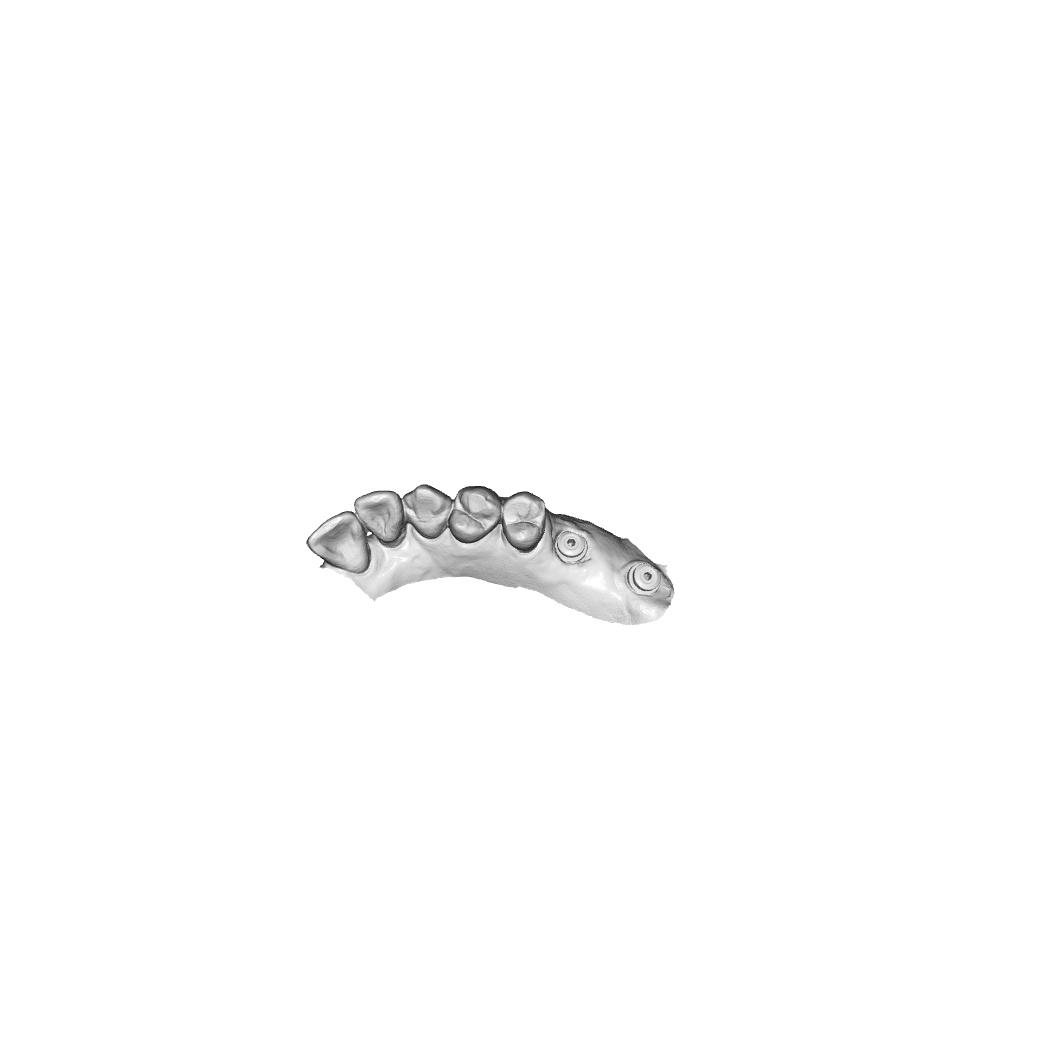canine: (402, 482, 453, 540)
implant: (626, 560, 662, 597), (553, 530, 589, 565)
incisor: (305, 510, 372, 575), (353, 489, 408, 549)
premolar: (447, 484, 502, 544), (501, 490, 547, 554)
